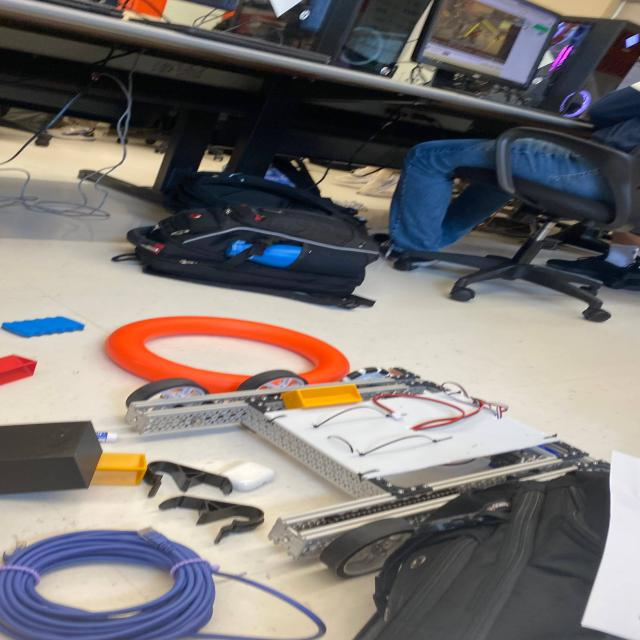red-specimen: (0, 355, 37, 385)
yellow-specimen: (281, 384, 362, 409), (91, 452, 147, 486)
